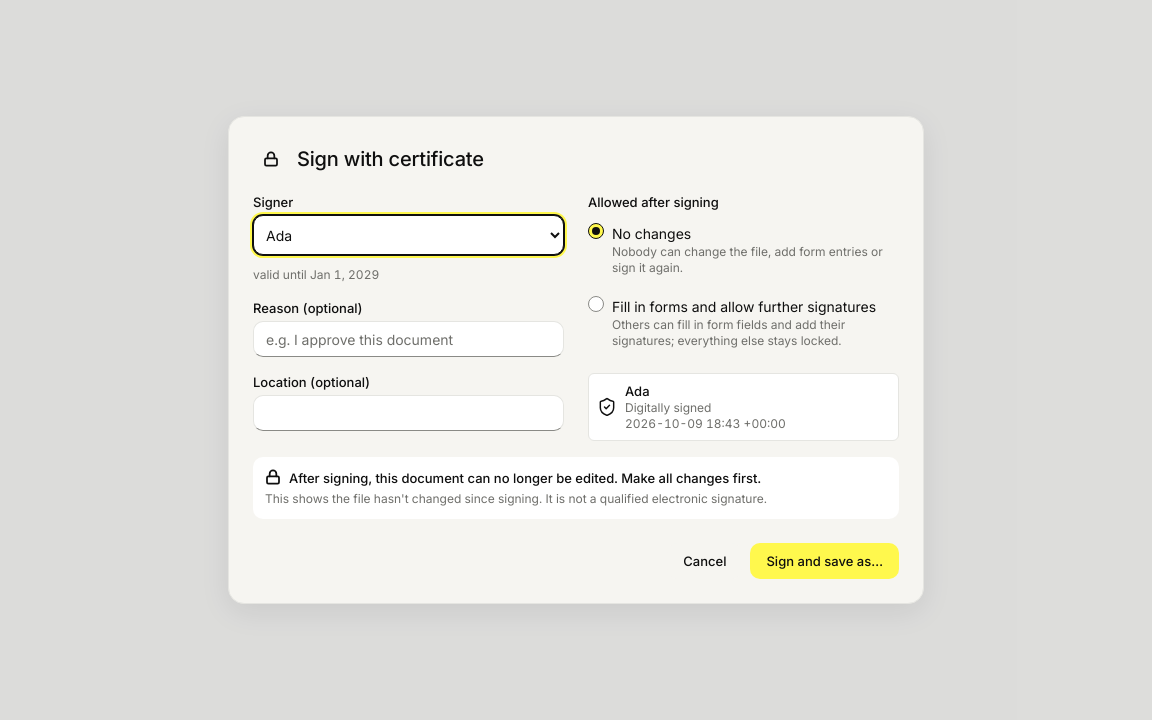
Test: the signing flow (DESIGN 3.8 S3) › shows the backend refusal xfa in the sheet and offers to try again
This screenshot has width=1152, height=720.
Click the button "Sign and save as…" at (825, 561), box [750,543,899,579]
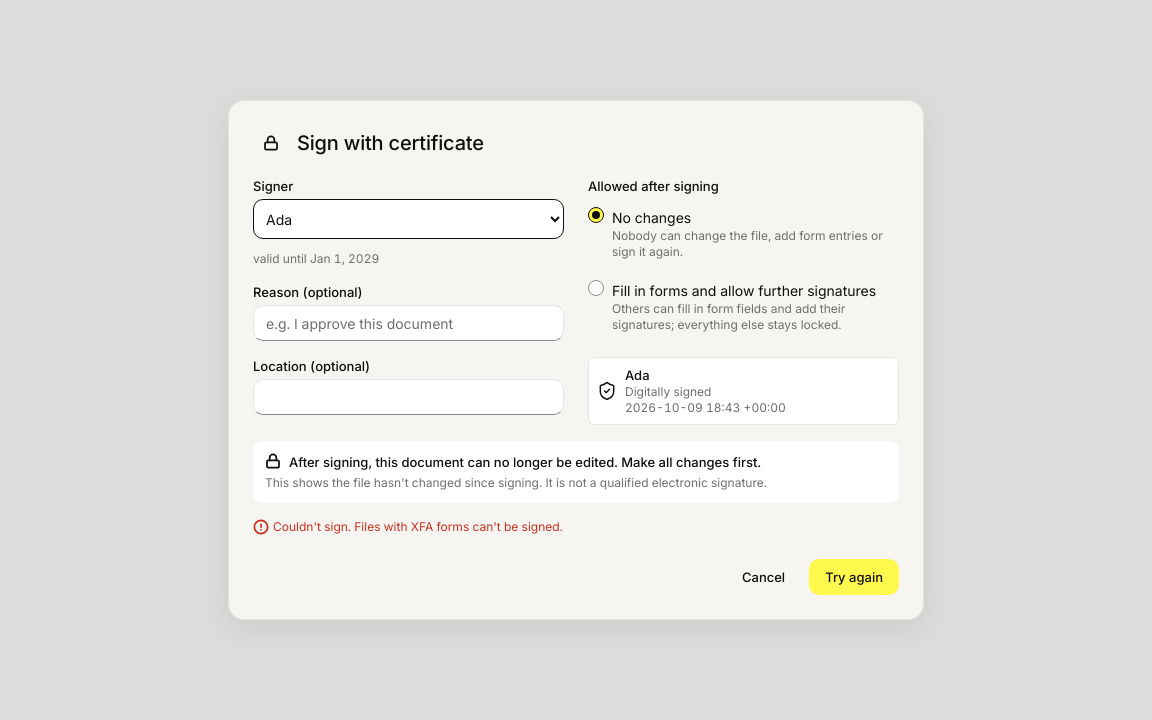
Expected: the message shows "Files with XFA forms", [273,519,563,534]
Expected: the button "Try again" is shown, [809,559,899,595]
